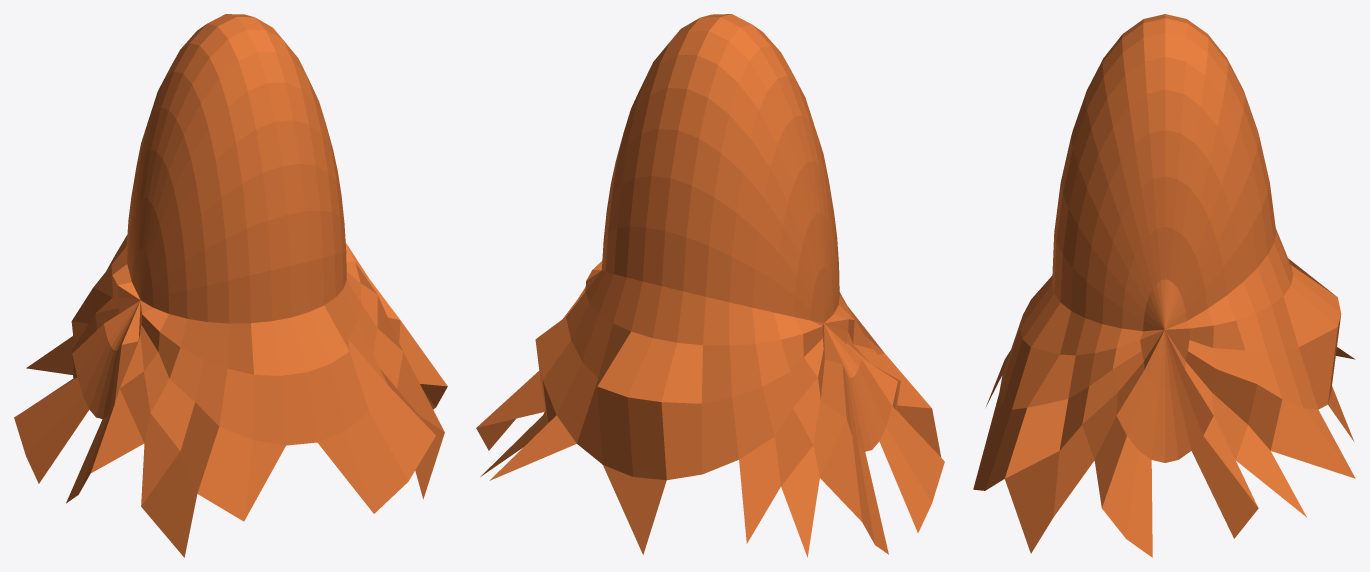
The model's file is mesh_projectile.glb.
The picture shows the model from 3 angles, left to right: view 1: azimuth 30°, elevation 25°; view 2: azimuth 150°, elevation 25°; view 3: azimuth 270°, elevation 25°; orthographic projection. The views are drawn at different scales.
Parts seen in each view (by area): view 1: Sphere; view 2: Sphere; view 3: Sphere.
Boxes of the visible parts, bbox=[...] form: Sphere: bbox=[14, 14, 447, 557]; Sphere: bbox=[476, 14, 944, 557]; Sphere: bbox=[973, 14, 1355, 557].
Bounding box in the file's own units: 3.73 × 4.63 × 3.38.
